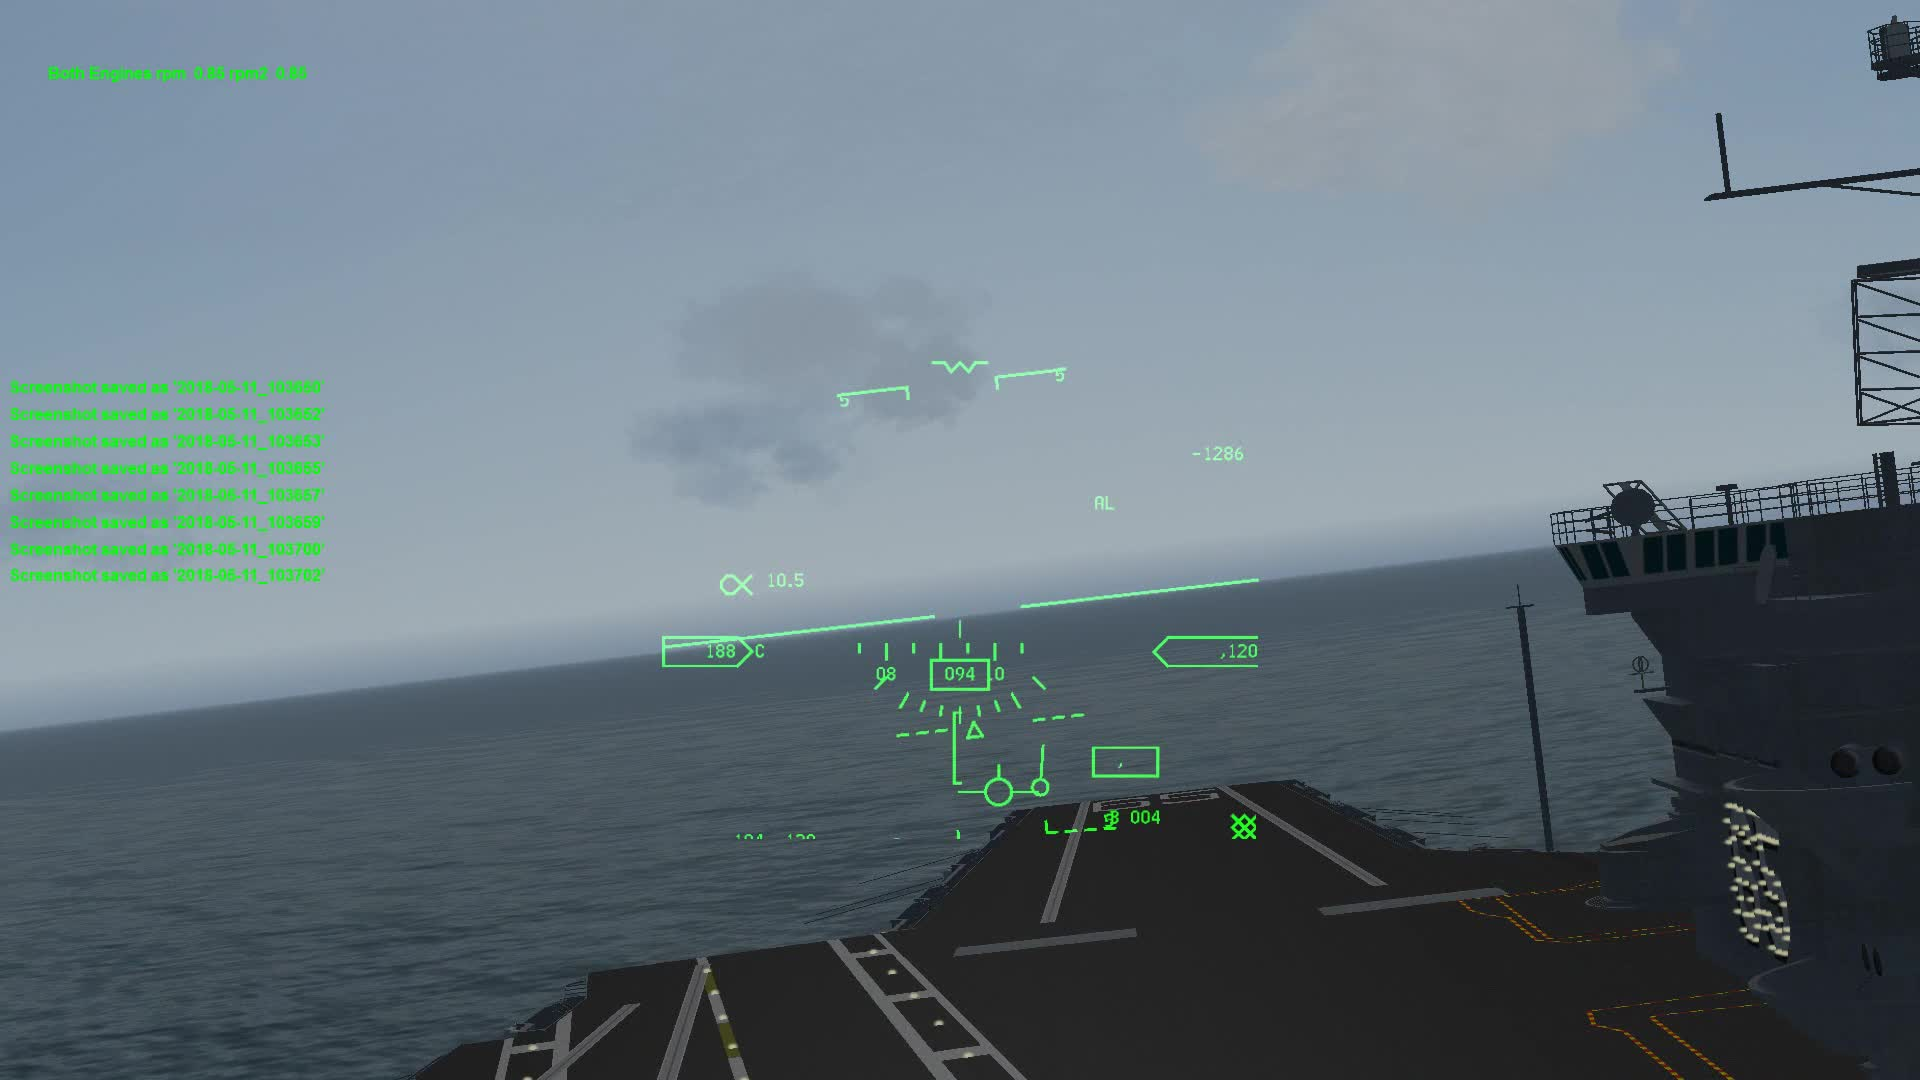speed_vector: (960, 761, 1034, 808)
